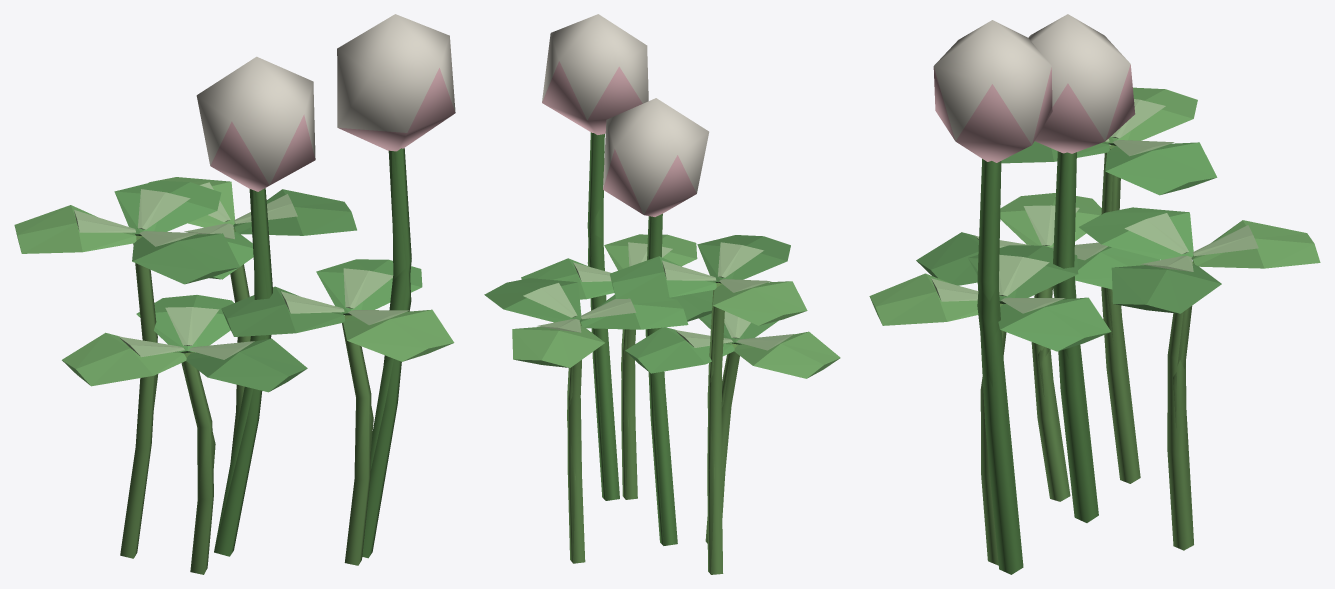
File: clover_flower.glb
3 views of the same model, side by side, from view 1: azimuth 30°, elevation 25°; view 2: azimuth 150°, elevation 25°; view 3: azimuth 270°, elevation 25° (orthographic). The views are drawn at different scales.
Visible parts, largest first — view 1: body_nl, body__far, stem; view 2: body_nl, body__far, stem; view 3: body_nl, stem, body__far.
Boxes of the visible parts, x1,y1,x2,y2 form: body_nl: (14, 177, 454, 392); body__far: (136, 14, 455, 549); stem: (120, 148, 411, 574); body_nl: (484, 234, 840, 378); body__far: (542, 14, 738, 566); stem: (567, 132, 739, 574); body_nl: (869, 87, 1320, 351); stem: (977, 149, 1193, 574); body__far: (933, 14, 1193, 563).
Bounding box in the file's own units: 4.62 × 6.57 × 4.78.
